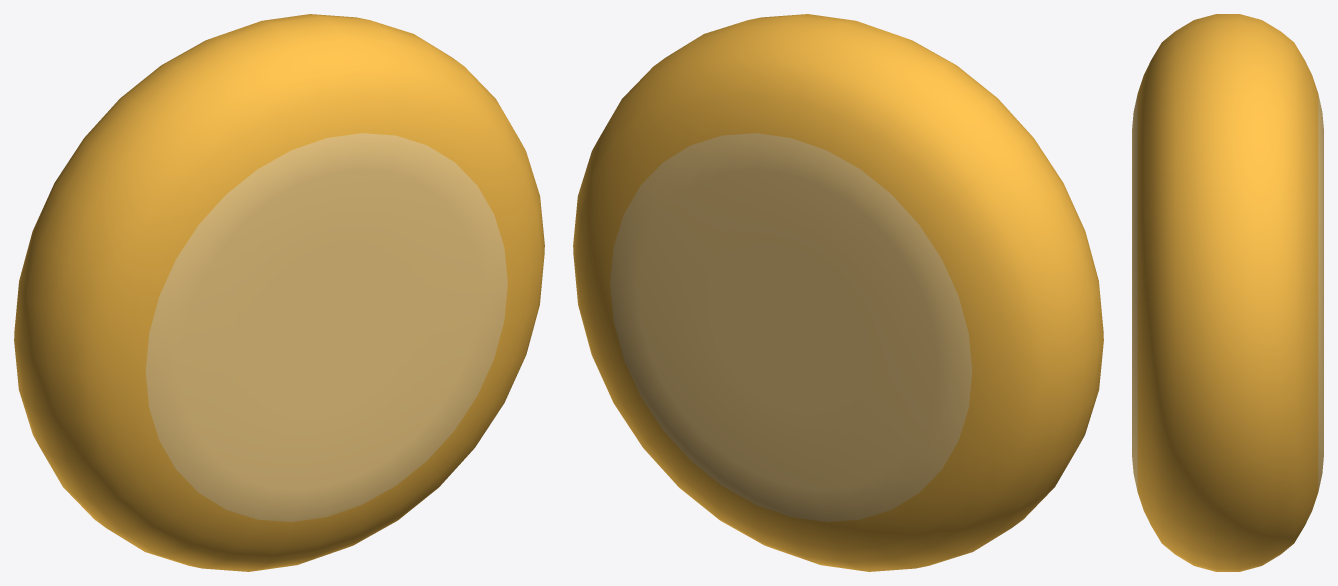
Rendered from Coin B.fbx.
3 renders of one model, left to right at view 1: azimuth 30°, elevation 25°; view 2: azimuth 150°, elevation 25°; view 3: azimuth 270°, elevation 25°, orthographic. The views are drawn at different scales.
Visible parts, largest first — view 1: Coin B; view 2: Coin B; view 3: Coin B.
Boxes of the visible parts, <box> form: Coin B: <box>14,14,544,571</box>; Coin B: <box>573,14,1103,571</box>; Coin B: <box>1132,14,1323,571</box>.
Size of the model in its own units: 0.7494 by 0.7494 by 0.2573.
